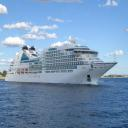cruises: (4, 37, 120, 89)
